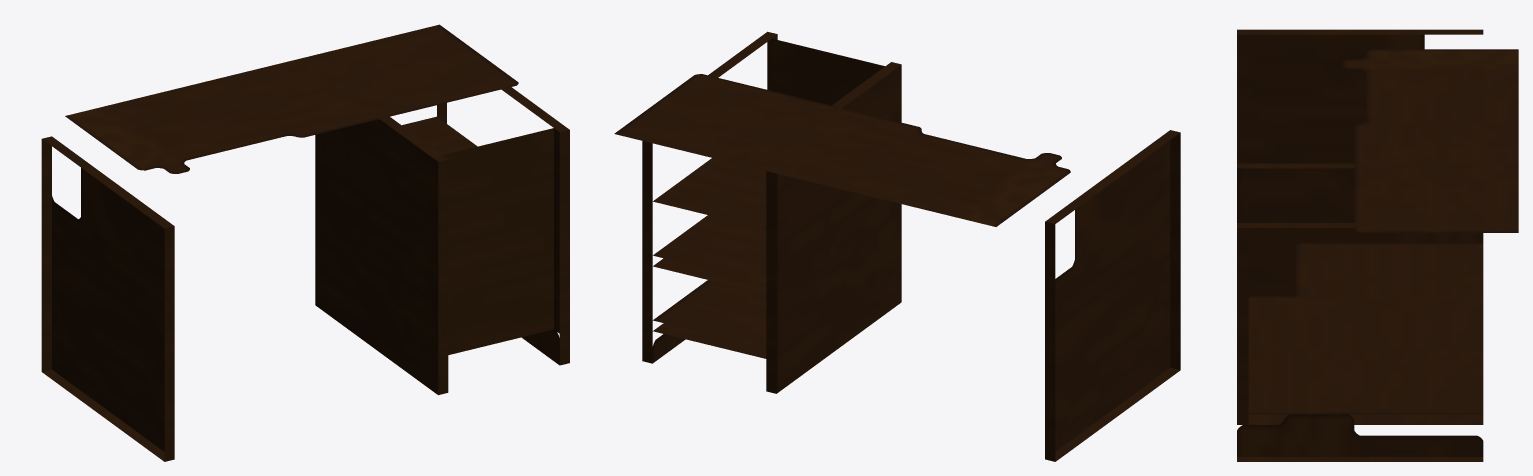
The model's file is office-table-1.obj.
The picture shows the model from 3 angles, left to right: view 1: azimuth 30°, elevation 25°; view 2: azimuth 150°, elevation 25°; view 3: azimuth 270°, elevation 25°; orthographic projection.
Parts seen in each view (by area): view 1: obj8, obj3, obj1, obj5, obj2, obj4; view 2: obj8, obj1, obj3, obj7, obj6, obj4, obj5, obj2; view 3: obj1, obj8, obj6, obj7, obj3, obj4, obj2, obj5.
Part boxes in pixels (x1,y1,x2,y2): obj8: [41, 136, 174, 461]; obj3: [315, 69, 448, 395]; obj1: [65, 24, 518, 173]; obj5: [443, 128, 559, 354]; obj2: [437, 40, 569, 365]; obj4: [402, 116, 477, 154]; obj8: [1045, 130, 1180, 461]; obj1: [614, 74, 1070, 226]; obj3: [766, 62, 901, 393]; obj7: [653, 280, 766, 358]; obj6: [653, 215, 766, 293]; obj4: [653, 158, 766, 228]; obj5: [772, 34, 884, 105]; obj2: [642, 31, 777, 363]; obj1: [1342, 49, 1518, 232]; obj8: [1237, 29, 1483, 163]; obj6: [1248, 296, 1483, 361]; obj7: [1248, 361, 1483, 424]; obj3: [1237, 163, 1483, 295]; obj4: [1291, 243, 1483, 297]; obj2: [1237, 223, 1483, 461]; obj5: [1237, 168, 1248, 424].
Size of the model in its own units: 2.62 by 1.44 by 1.56.
1 material, 1 textured.
